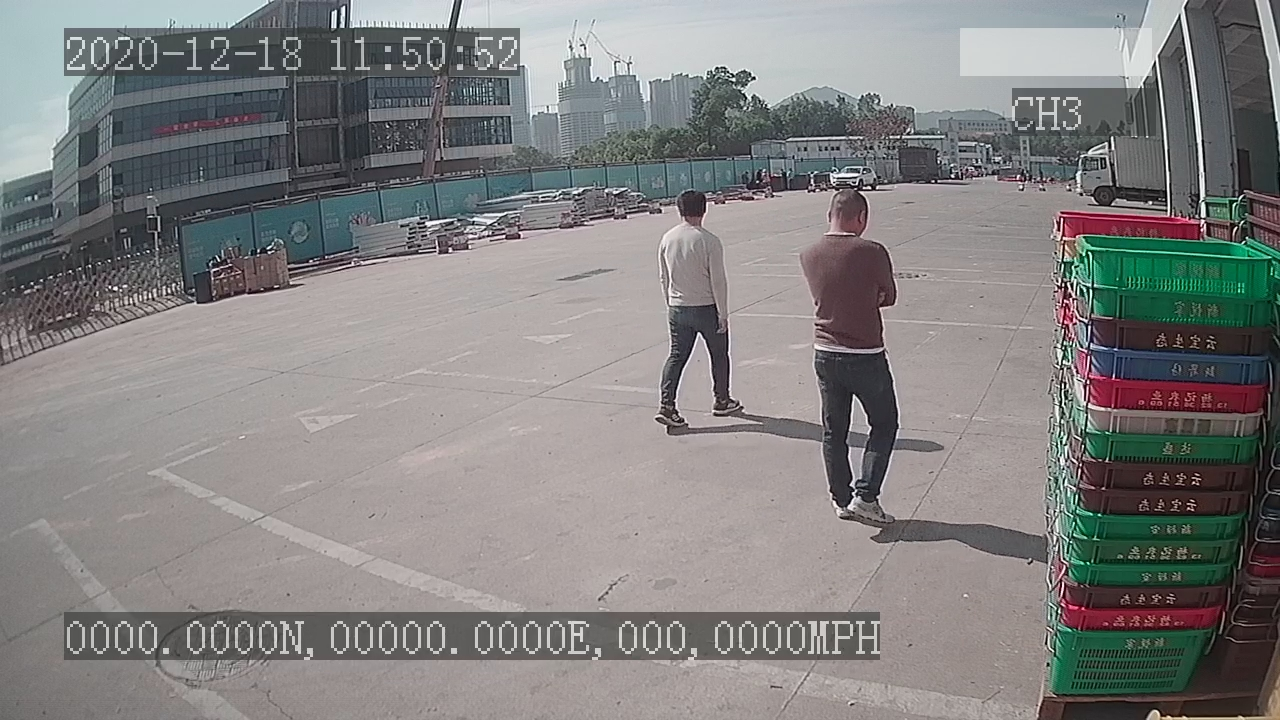person: (793, 183, 909, 533), (649, 186, 749, 433)
